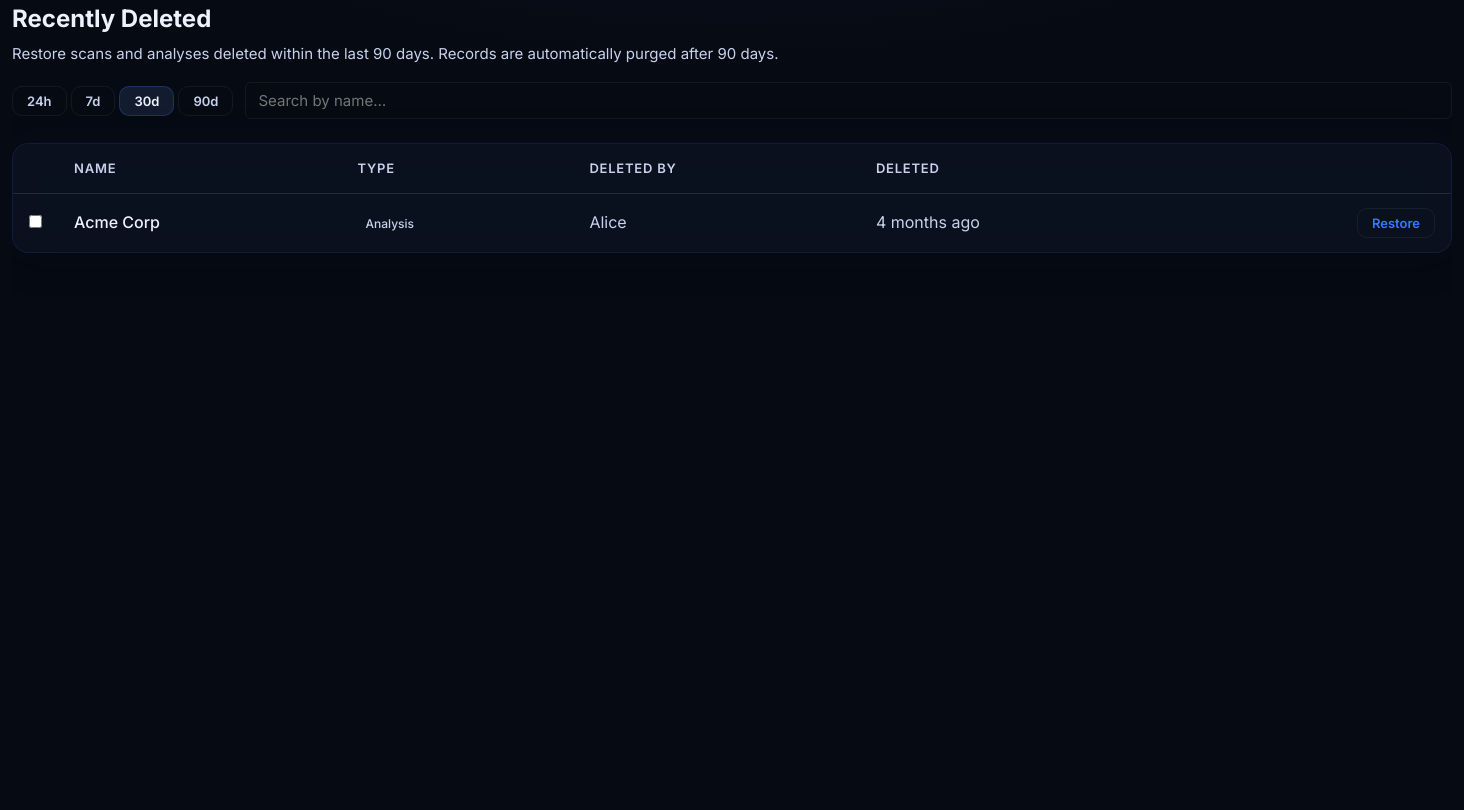
Scenario: RecentlyDeletedView › per-row Restore POSTs the single id and shows a success toast on no failures
This screenshot has width=1464, height=810.
What coordinates should you click on to do the following:
click the button with aria-label "Restore Acme Corp"
I would click on:
 (1396, 223)
Its box is [1357,208,1435,238].
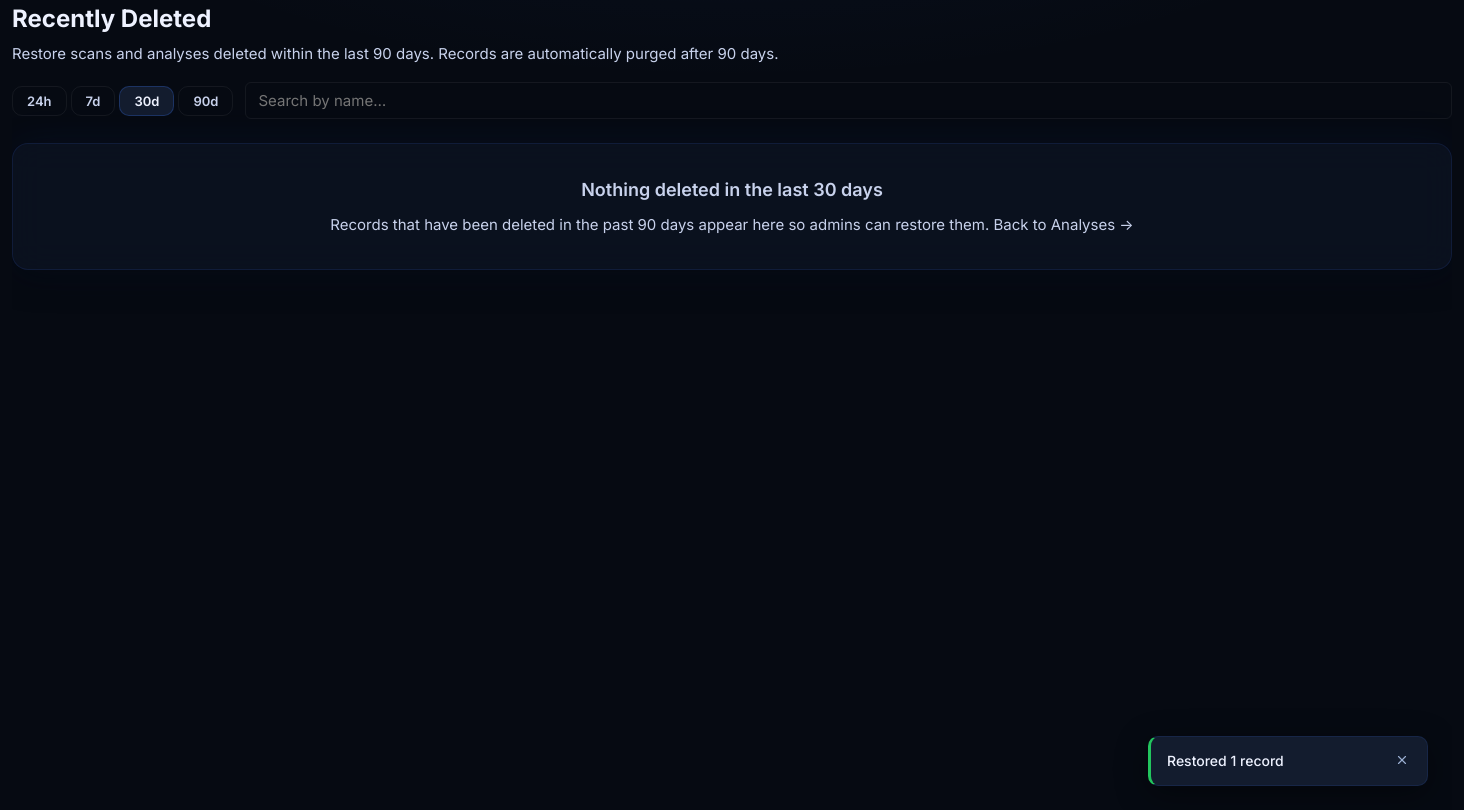
Result: the text "Restored 1 record" is shown at [1167,752,1284,769]
